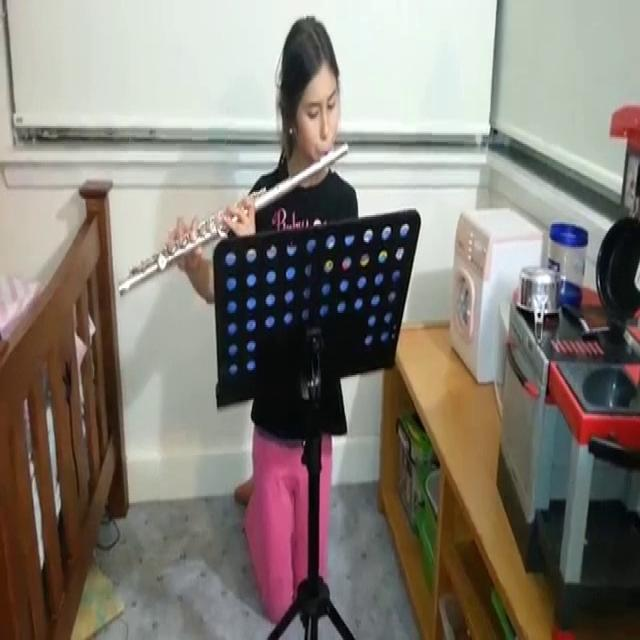Flute: (102, 131, 354, 316)
